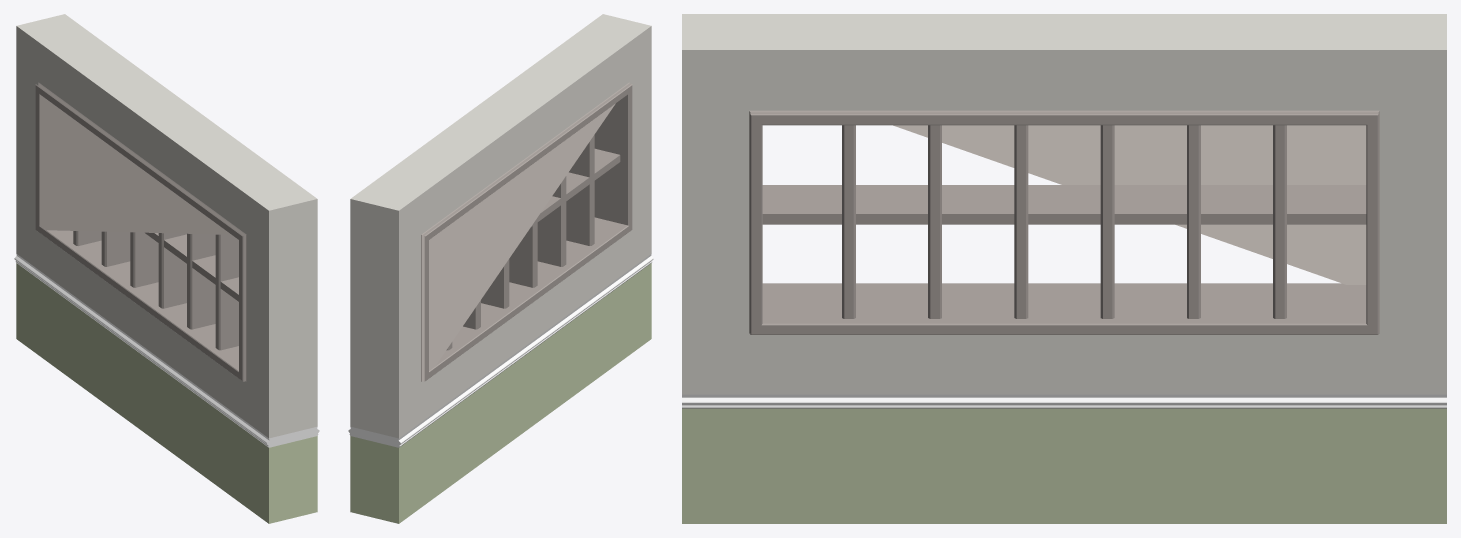
File: wall_window.fbx
The picture shows the model from 3 angles, left to right: view 1: azimuth 30°, elevation 25°; view 2: azimuth 150°, elevation 25°; view 3: azimuth 270°, elevation 25°; orthographic projection. The views are drawn at different scales.
Parts seen in each view (by area): view 1: Wall_Window; view 2: Wall_Window; view 3: Wall_Window.
Part boxes in pixels (x1,y1,x2,y2): Wall_Window: [14, 14, 319, 523]; Wall_Window: [348, 14, 653, 523]; Wall_Window: [682, 14, 1446, 523].
Size of the model in its own units: 115 by 616 by 900.
